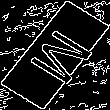M_SE: (16, 22, 94, 88)
